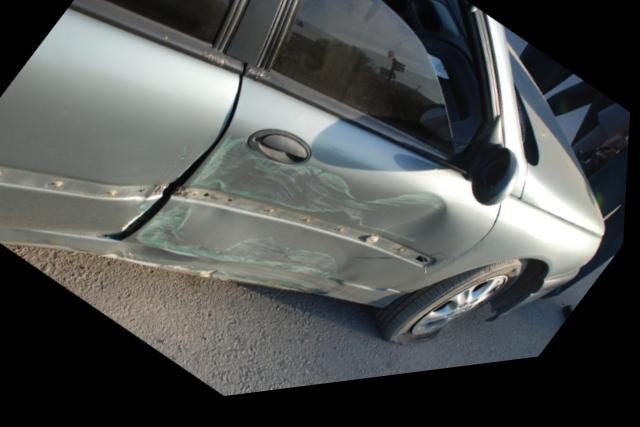dent: (121, 143, 464, 305)
